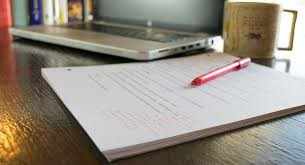pen: (193, 56, 251, 85)
